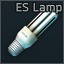Energy-saving lamp: (0, 0, 64, 64)
